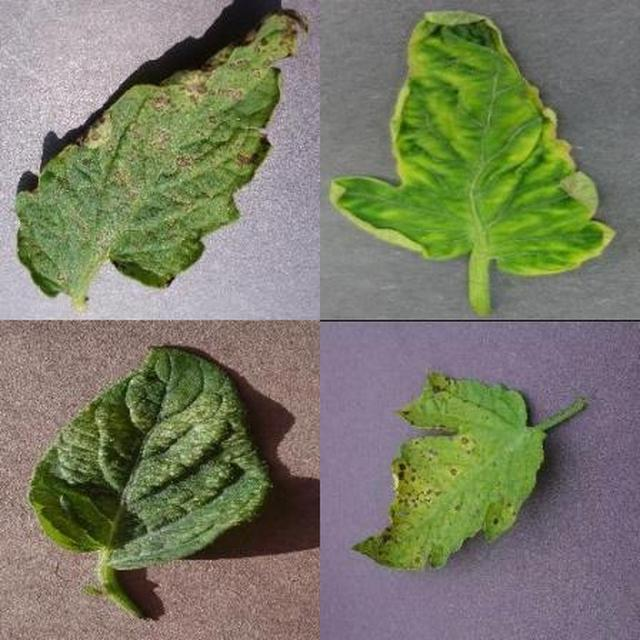Septoria Leaf: (214, 206, 640, 640)
